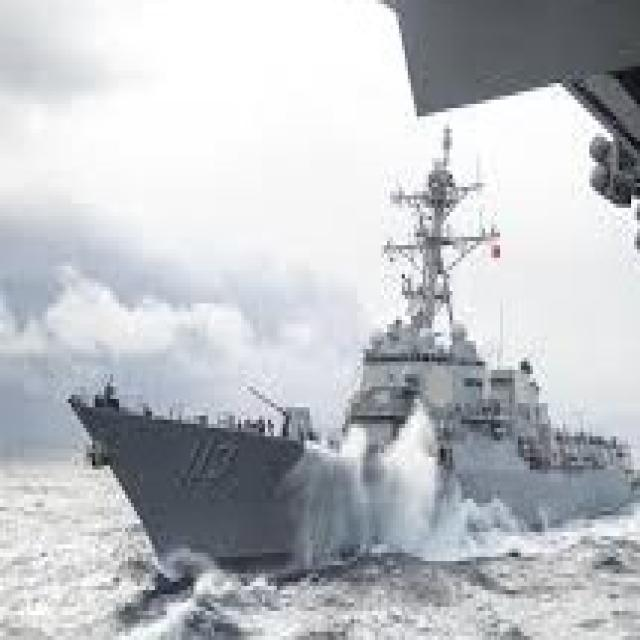navalvessels: (65, 93, 640, 602)
